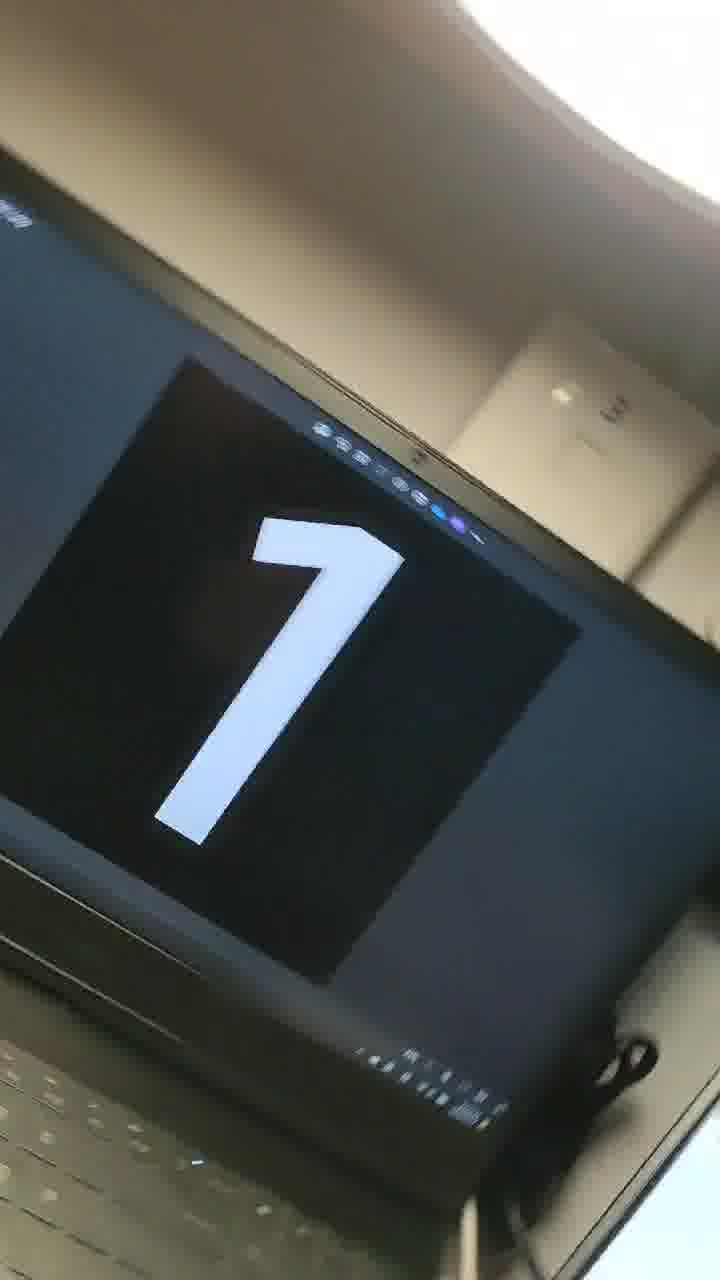one: (100, 463, 442, 875)
